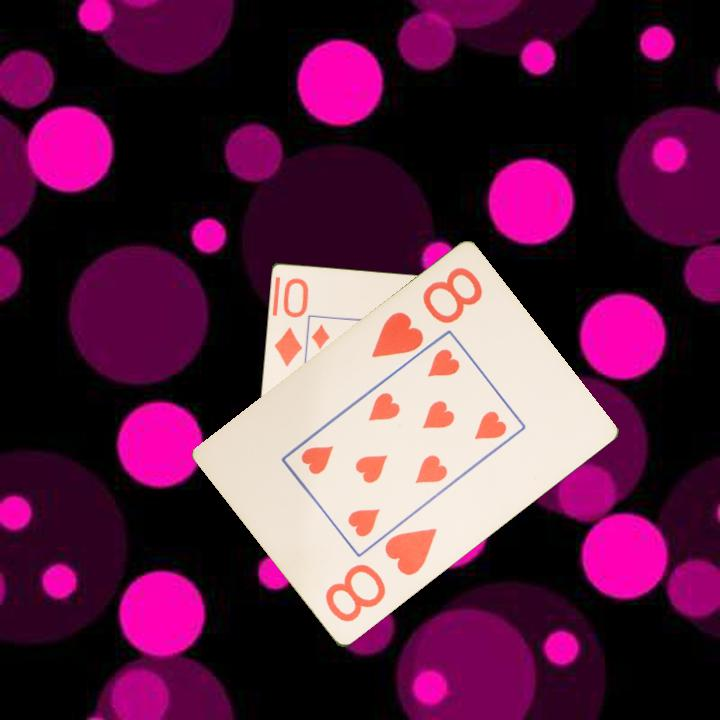10d: (270, 274, 311, 369)
8h: (321, 524, 441, 626), (367, 264, 486, 362)
